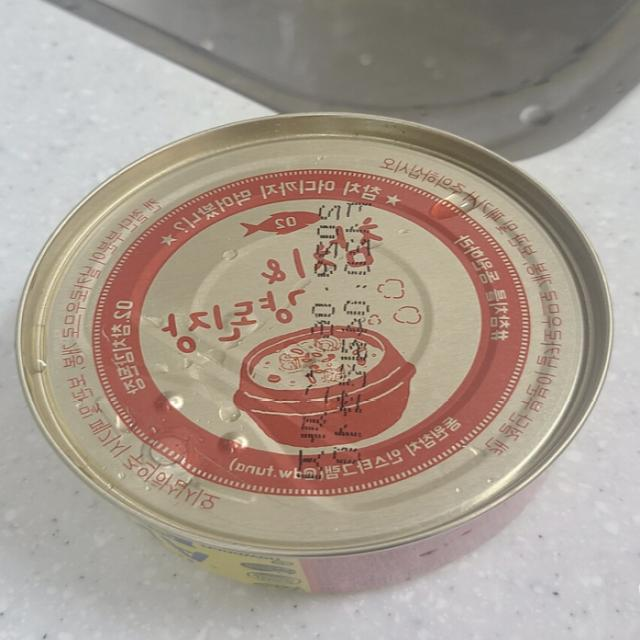can: (31, 84, 611, 607)
